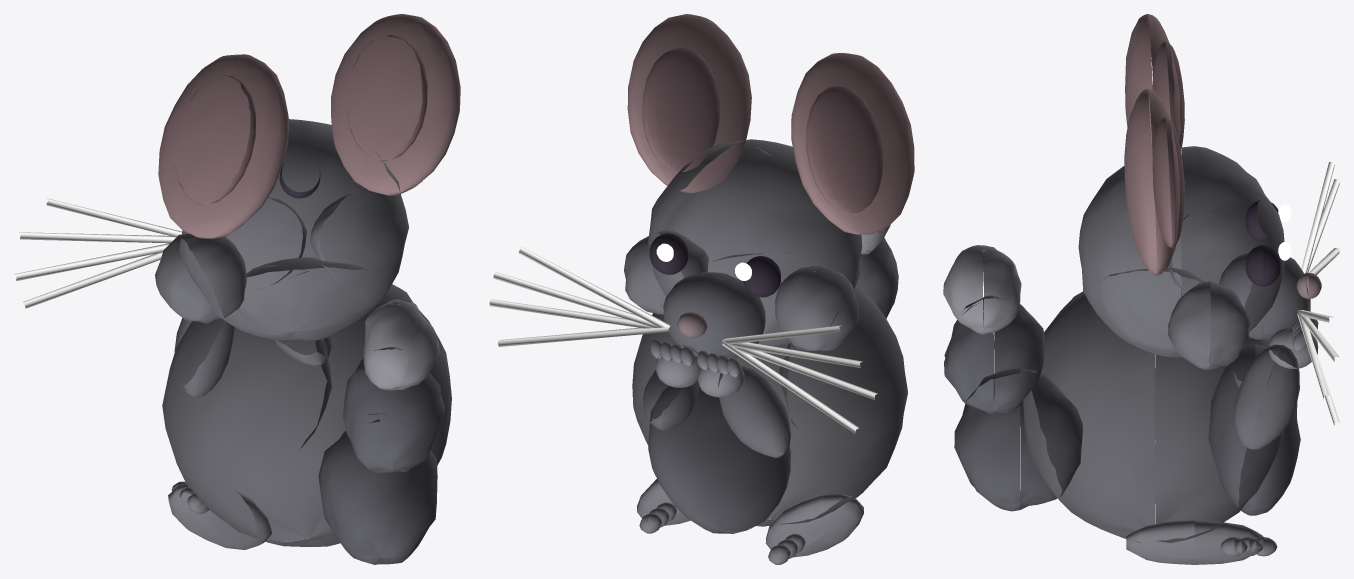
Rendered from pet_chinchilla_ebony.glb.
The picture shows the model from 3 angles, left to right: view 1: azimuth 30°, elevation 25°; view 2: azimuth 150°, elevation 25°; view 3: azimuth 270°, elevation 25°; orthographic projection. The views are drawn at different scales.
Visible parts, largest first — view 1: chinchilla; view 2: chinchilla; view 3: chinchilla.
Part boxes in pixels (x1=…): chinchilla: x1=14, y1=14, x2=460, y2=564; chinchilla: x1=489, y1=14, x2=914, y2=564; chinchilla: x1=943, y1=14, x2=1339, y2=564.
Bounding box in the file's own units: 0.8416 × 1 × 0.7516.
